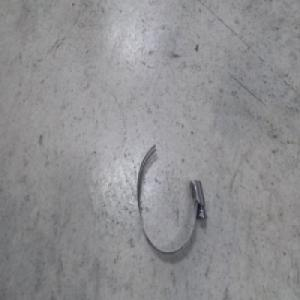AdjustableClamp: (135, 142, 203, 253)
